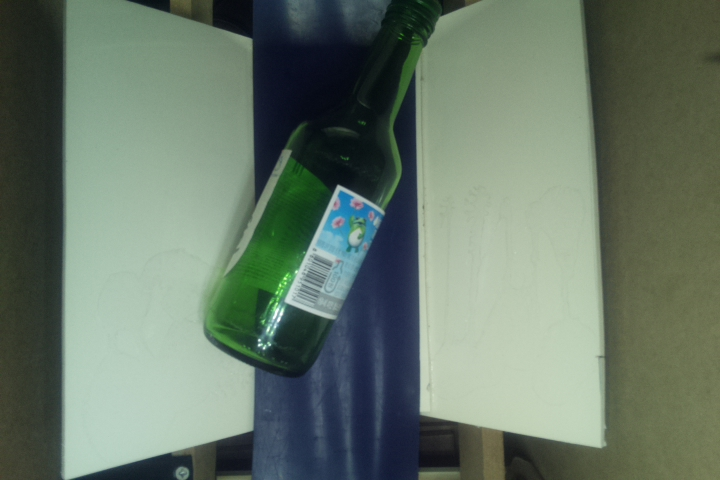soju: (201, 1, 442, 380)
